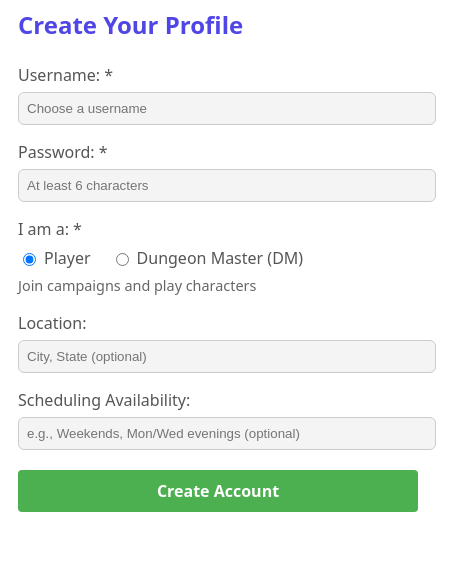
it: ProfileForm Component › handles registration error
The width and height of the screenshot is (453, 588).
Type "ErrorUser" into the field with placeholder "Choose a username" at (227, 108), box top-left (18, 92), bottom-right (436, 125)
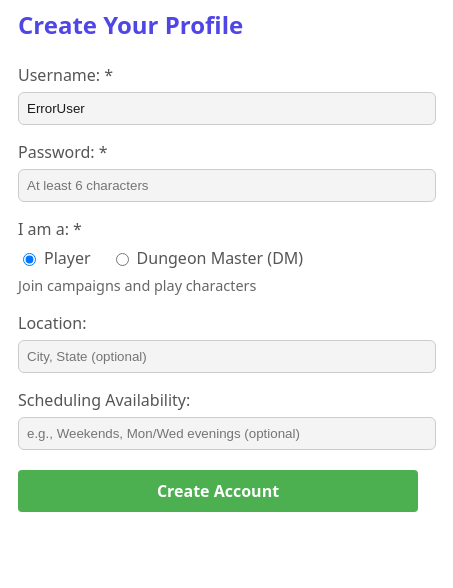
Type "123456" into the password field with placeholder "At least 6 characters" at (227, 185), box top-left (18, 169), bottom-right (436, 202)
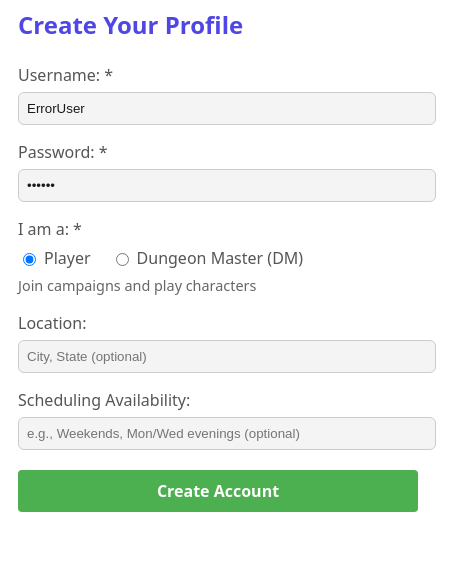
Click the button "Create Account" at (218, 491), box top-left (18, 470), bottom-right (418, 512)
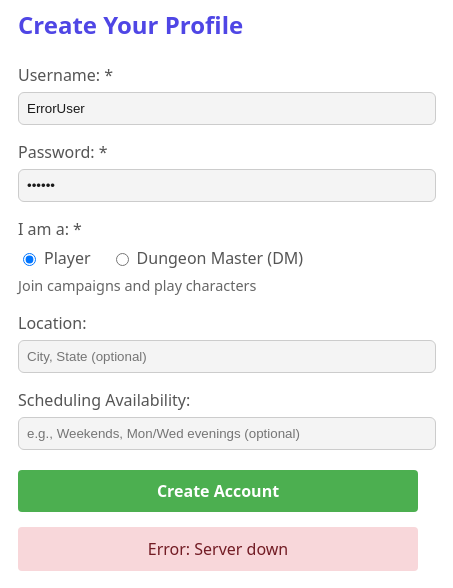
Now the text "Error: Server down" is shown, box top-left (18, 527), bottom-right (418, 571)
